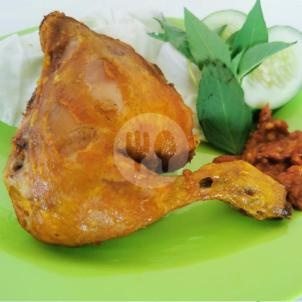ayam_goreng: (12, 9, 288, 241)
